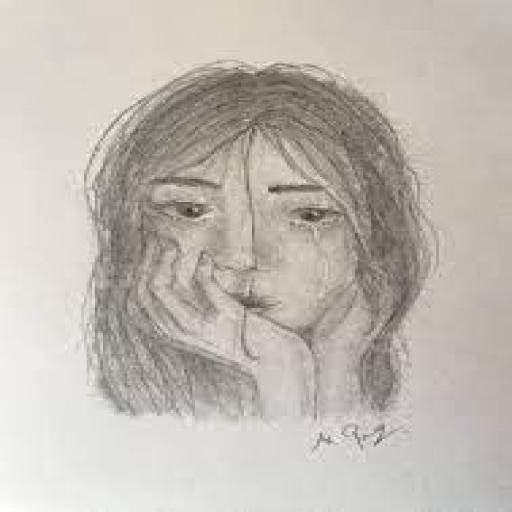person: (63, 46, 441, 438)
